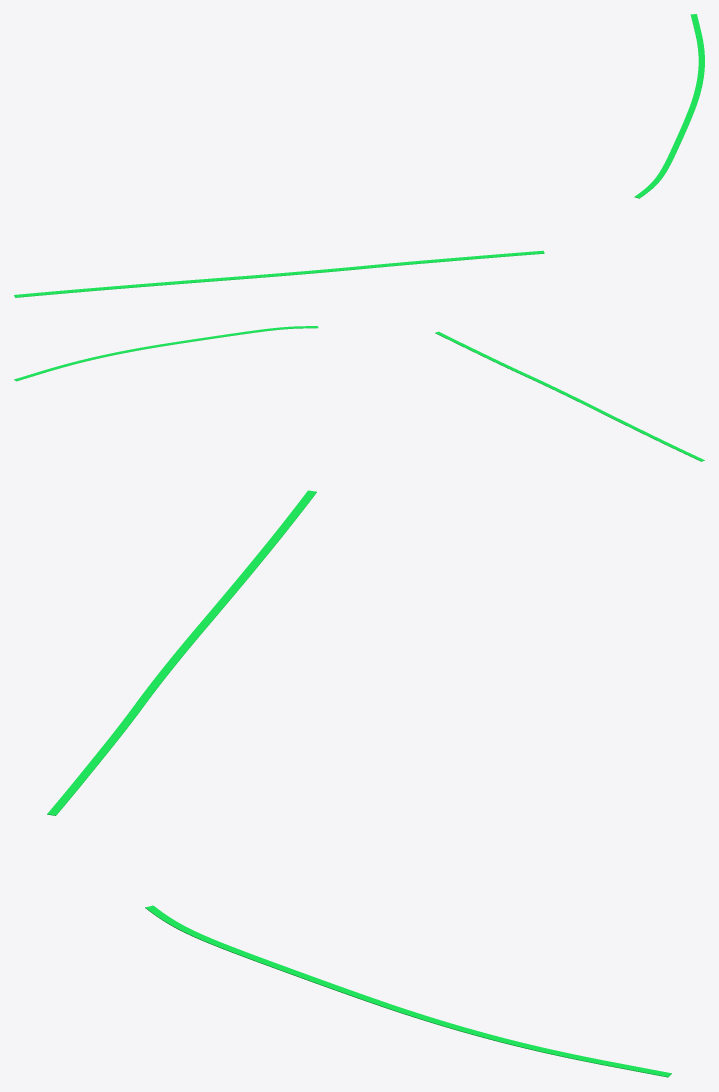
Rendered from YasMarinaDrs.glb.
The picture shows the model from 3 angles, top to bottom: view 1: azimuth 30°, elevation 25°; view 2: azimuth 150°, elevation 25°; view 3: azimuth 270°, elevation 25°; orthographic projection. The views are drawn at different scales.
Visible parts, largest first — view 1: DrsStrip_1, DrsStrip_2; view 2: DrsStrip_1, DrsStrip_2; view 3: DrsStrip_1, DrsStrip_2.
Part boxes in pixels (x1=…): DrsStrip_1: x1=14, y1=250, x2=544, y2=297; DrsStrip_2: x1=634, y1=14, x2=704, y2=198; DrsStrip_1: x1=435, y1=331, x2=704, y2=461; DrsStrip_2: x1=14, y1=326, x2=318, y2=381; DrsStrip_1: x1=47, y1=490, x2=316, y2=815; DrsStrip_2: x1=145, y1=905, x2=671, y2=1077.
Size of the model in its own units: 13.27 by 0.006 by 5.97.
